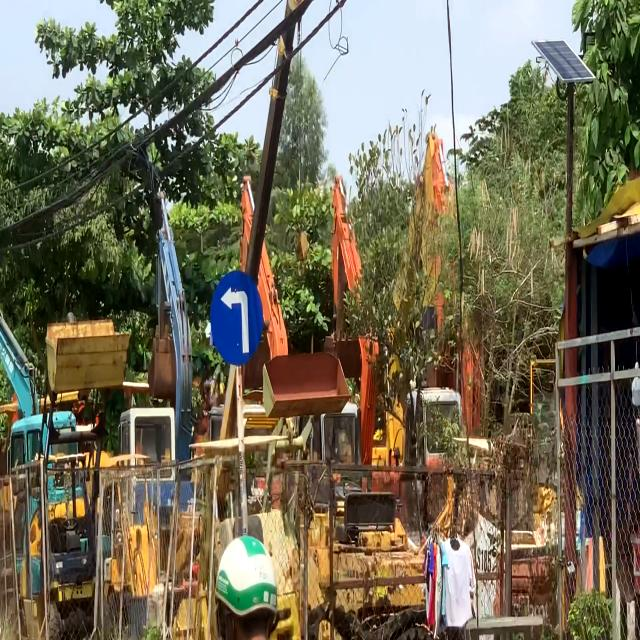R.301e: (210, 270, 262, 365)
